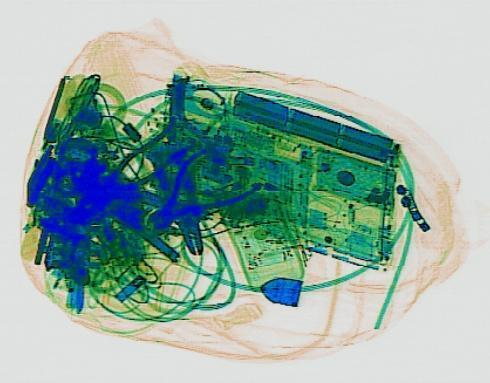Pliers: (122, 141, 266, 245), (71, 123, 199, 214), (148, 147, 213, 256)
